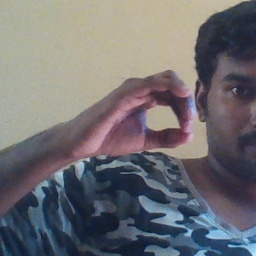O: (77, 68, 198, 156)
